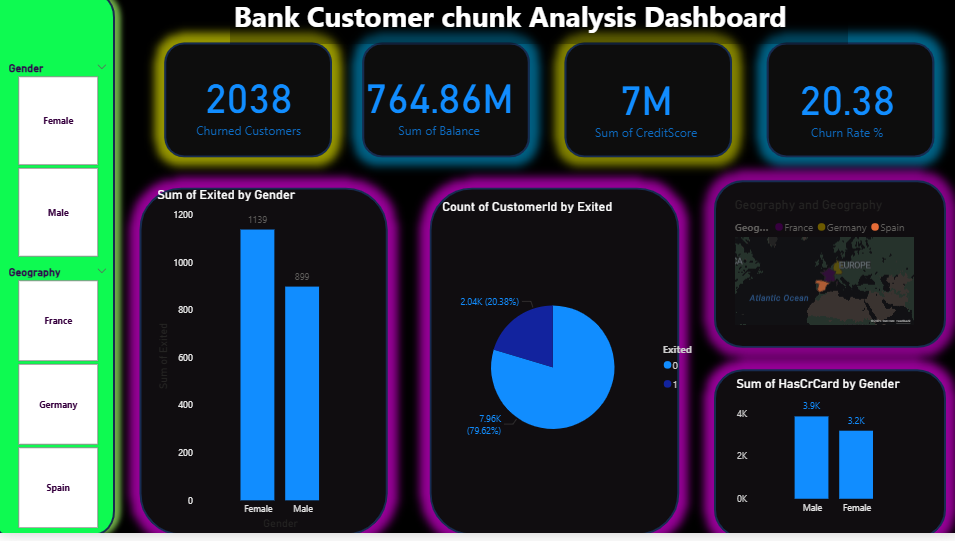

The page's visual inventory and layout, read from the dashboard file:
{"tool":"powerbi","page":{"name":"Page 1","canvas":[1280,720],"ordinal":0},"visuals":[{"type":"card","fields":{"Values":["Customer-Churn-Records.Churned Customers"]},"box":[219.2,68,224.9,153.1],"z":0},{"type":"card","fields":{"Values":["Sum(Customer-Churn-Records.Balance)"]},"box":[474.3,68,224.9,153.1],"z":1000},{"type":"card","fields":{"Values":["Sum(Customer-Churn-Records.CreditScore)"]},"box":[750.2,69.9,224.9,153.1],"z":2000},{"type":"card","fields":{"Values":["Customer-Churn-Records.Churn Rate %"]},"box":[1018.6,69.9,224.9,153.1],"z":3000},{"type":"slicer","fields":{"Values":["Customer-Churn-Records.Gender"]},"box":[0,86,156,272],"z":4000},{"type":"columnChart","fields":{"Category":["Customer-Churn-Records.Gender"],"Y":["Sum(Customer-Churn-Records.Exited)"]},"box":[206,258.9,281.6,461.1],"z":5000},{"type":"pieChart","fields":{"Category":["Customer-Churn-Records.Exited"],"Y":["CountNonNull(Customer-Churn-Records.CustomerId)"]},"box":[586,274,362,430],"z":6000},{"type":"azureMap","fields":{"Category":["Customer-Churn-Records.Geography"],"Series":["Customer-Churn-Records.Geography"]},"box":[975.1,272.1,249.5,175.7],"z":7000},{"type":"slicer","fields":{"Values":["Customer-Churn-Records.Geography"]},"box":[0,358,156,362],"z":8000},{"type":"columnChart","fields":{"Y":["Sum(Customer-Churn-Records.HasCrCard)"],"Category":["Customer-Churn-Records.Gender"]},"box":[978,510,248,194],"z":9000},{"type":"textbox","box":[308,0,824,68],"z":10000}]}

Visuals, with their boxes in screenshot pixels (x1, y1, x2, y2), scaled from the page's 1280x720 canvas onto the 955x541 screenshot:
card - Customer-Churn-Records.Churned Customers: locate(164, 51, 331, 166)
card - Sum(Customer-Churn-Records.Balance): locate(354, 51, 522, 166)
card - Sum(Customer-Churn-Records.CreditScore): locate(560, 53, 728, 168)
card - Customer-Churn-Records.Churn Rate %: locate(760, 53, 928, 168)
slicer - Customer-Churn-Records.Gender: locate(0, 65, 116, 269)
columnChart - Customer-Churn-Records.Gender x Sum(Customer-Churn-Records.Exited): locate(154, 195, 364, 540)
pieChart - Customer-Churn-Records.Exited x CountNonNull(Customer-Churn-Records.CustomerId): locate(437, 206, 707, 529)
azureMap - Customer-Churn-Records.Geography x Customer-Churn-Records.Geography: locate(728, 204, 914, 336)
slicer - Customer-Churn-Records.Geography: locate(0, 269, 116, 540)
columnChart - Sum(Customer-Churn-Records.HasCrCard) x Customer-Churn-Records.Gender: locate(730, 383, 915, 529)
textbox: locate(230, 0, 845, 51)
